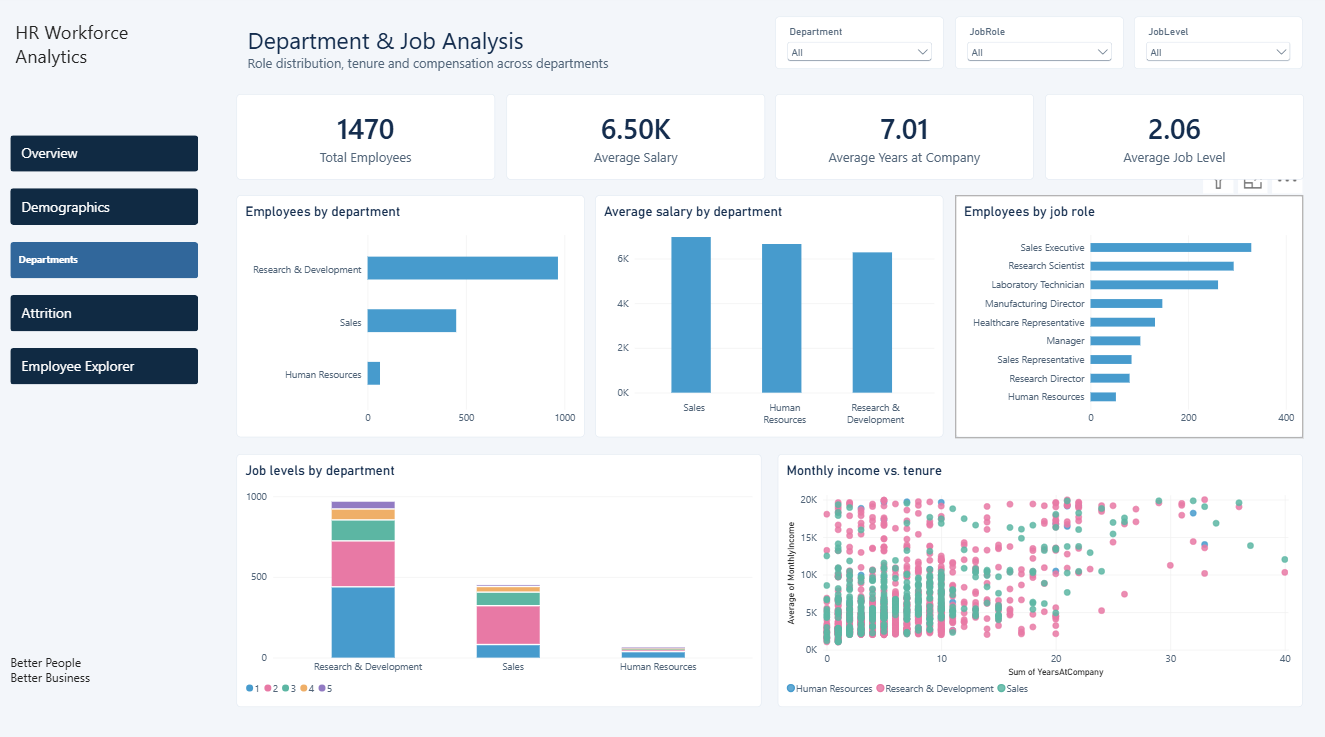

Layout of this report page (visuals, bound fields, positions):
{"tool":"powerbi","page":{"name":"Departments","canvas":[1920,1080],"ordinal":2},"visuals":[{"type":"textbox","box":[0,0,304,1080],"z":-1000},{"type":"clusteredBarChart","title":"Employees by department","fields":{"Category":["Employees.Department"],"Y":["Sum(Employees.EmployeeCount)"]},"box":[344,292,504,350],"z":0},{"type":"clusteredBarChart","title":"Employees by job role","fields":{"Category":["Employees.JobRole"],"Y":["Sum(Employees.EmployeeCount)"]},"box":[1384,292,504,350],"z":1000},{"type":"card","fields":{"Values":["Employees.Total Employees"]},"box":[344,144,374,124],"z":2000},{"type":"card","fields":{"Values":["Employees.Average Salary"]},"box":[734,144,374,124],"z":3000},{"type":"card","fields":{"Values":["Employees.Average Years at Company"]},"box":[1124,144,374,124],"z":4000},{"type":"card","fields":{"Values":["Employees.Average Job Level"]},"box":[1514,144,374,124],"z":5000},{"type":"scatterChart","title":"Monthly income vs. tenure","fields":{"Category":["Employees.EmployeeNumber"],"Series":["Employees.Department"],"X":["Sum(Employees.YearsAtCompany)"],"Y":["Avg(Employees.MonthlyIncome)"]},"box":[1128,666,760,366],"z":6000},{"type":"clusteredColumnChart","title":"Average salary by department","fields":{"Category":["Employees.Department"],"Y":["Employees.Average Salary"]},"box":[864,292,504,350],"z":7000},{"type":"slicer","fields":{"Values":["Employees.Department"]},"box":[1124,32,244,76],"z":8000},{"type":"slicer","fields":{"Values":["Employees.JobRole"]},"box":[1384,32,244,76],"z":8000},{"type":"slicer","fields":{"Values":["Employees.JobLevel"]},"box":[1644,32,244,76],"z":8000},{"type":"columnChart","title":"Job levels by department","fields":{"Category":["Employees.Department"],"Series":["Employees.JobLevel"],"Y":["Sum(Employees.EmployeeCount)"]},"box":[344,666,760,366],"z":8000},{"type":"textbox","box":[343.8,27.1,772.7,101.3],"z":9001},{"type":"textbox","box":[24,36,256,108],"z":20000},{"type":"pageNavigator","box":[16,204,272,364],"z":20000},{"type":"textbox","box":[16.3,955.5,264.2,101.3],"z":20000}]}

Visuals, with their boxes in screenshot pixels (x1, y1, x2, y2), scaled from the page's 1920x1080 canvas onto the 1325x737 screenshot:
textbox: [0, 0, 210, 736]
"Employees by department" clusteredBarChart: [237, 199, 585, 438]
"Employees by job role" clusteredBarChart: [955, 199, 1303, 438]
card - Employees.Total Employees: [237, 98, 495, 183]
card - Employees.Average Salary: [507, 98, 765, 183]
card - Employees.Average Years at Company: [776, 98, 1034, 183]
card - Employees.Average Job Level: [1045, 98, 1303, 183]
"Monthly income vs. tenure" scatterChart: [778, 454, 1303, 704]
"Average salary by department" clusteredColumnChart: [596, 199, 944, 438]
slicer - Employees.Department: [776, 22, 944, 74]
slicer - Employees.JobRole: [955, 22, 1123, 74]
slicer - Employees.JobLevel: [1135, 22, 1303, 74]
"Job levels by department" columnChart: [237, 454, 762, 704]
textbox: [237, 18, 771, 88]
textbox: [17, 25, 193, 98]
pageNavigator: [11, 139, 199, 388]
textbox: [11, 652, 194, 721]
